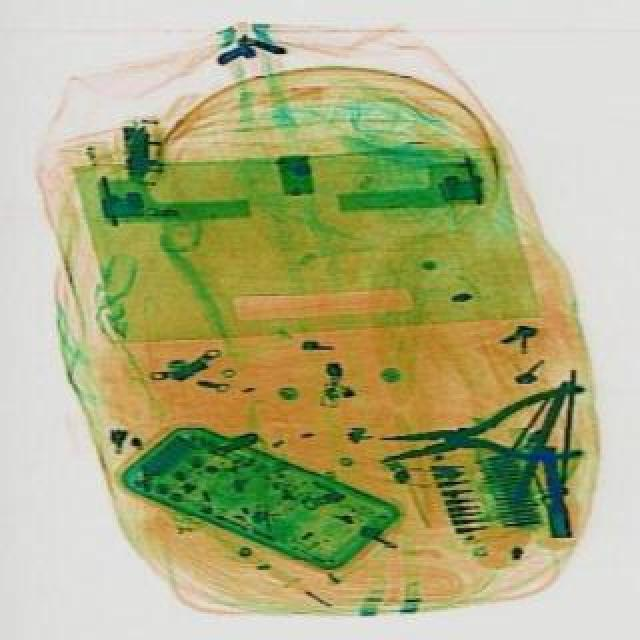wrench: (372, 382, 594, 486)
